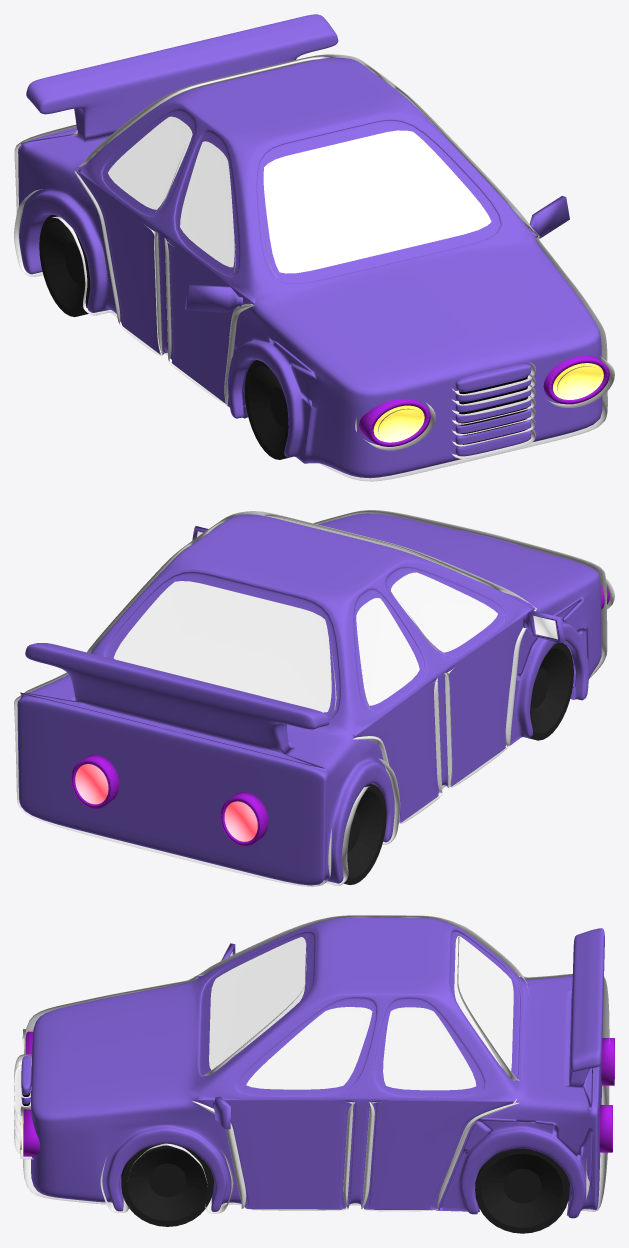
The model's file is car2.glb.
3 views of the same model, one above another, from view 1: azimuth 30°, elevation 25°; view 2: azimuth 150°, elevation 25°; view 3: azimuth 270°, elevation 25° (orthographic). The views are drawn at different scales.
Visible parts, largest first — view 1: car; view 2: car; view 3: car.
Part boxes in pixels (left/top/right/bottom): car: left=14, top=14, right=614, bottom=481; car: left=14, top=510, right=614, bottom=886; car: left=14, top=915, right=614, bottom=1233.
Bounding box in the file's own units: 0.1718 × 0.1024 × 0.2613.
